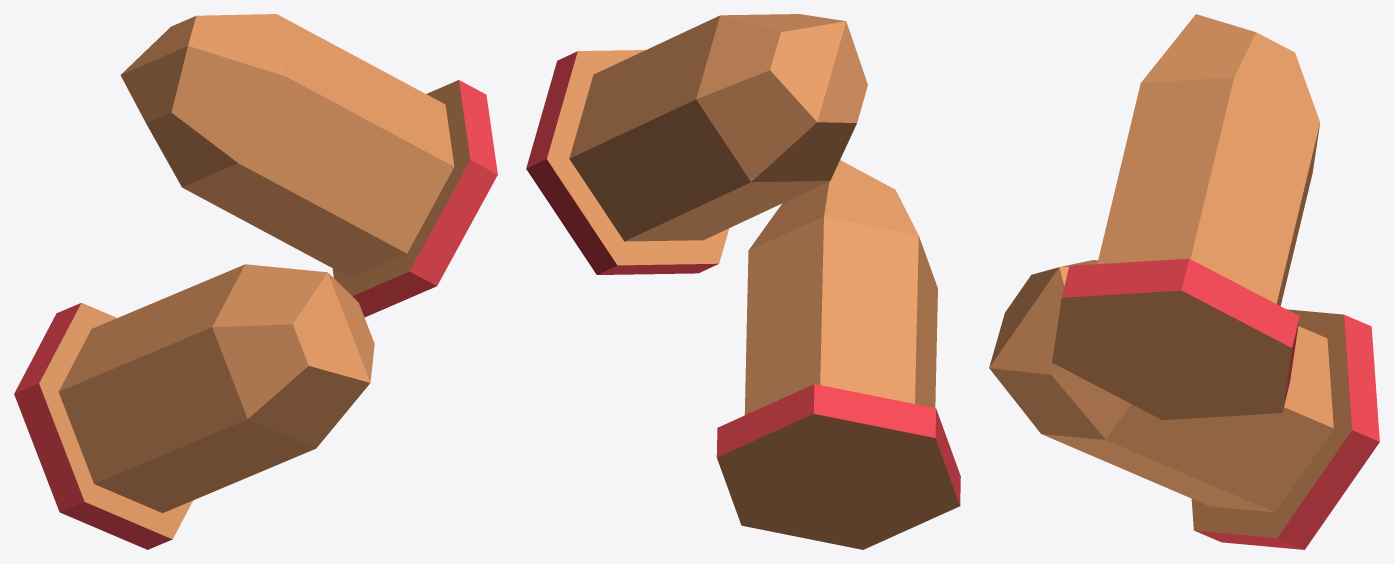
Rendered from Ammo.fbx.
3 renders of one model, left to right at view 1: azimuth 30°, elevation 25°; view 2: azimuth 150°, elevation 25°; view 3: azimuth 270°, elevation 25°, orthographic. The views are drawn at different scales.
Visible parts, largest first — view 1: Circle.007; view 2: Circle.007; view 3: Circle.007.
Part boxes in pixels (x1=…): Circle.007: x1=14, y1=14, x2=497, y2=549; Circle.007: x1=526, y1=14, x2=960, y2=549; Circle.007: x1=989, y1=14, x2=1379, y2=549.
Bounding box in the file's own units: 1.36 × 1.56 × 1.02.
